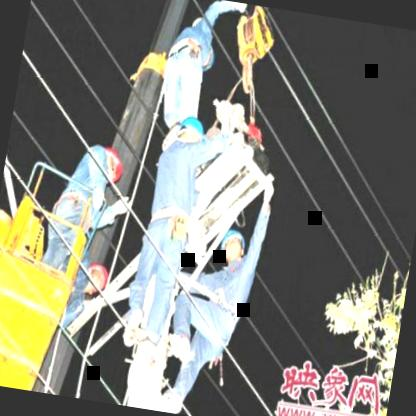helmet: (170, 108, 209, 152), (80, 256, 115, 296), (96, 142, 127, 187), (216, 224, 249, 262)
